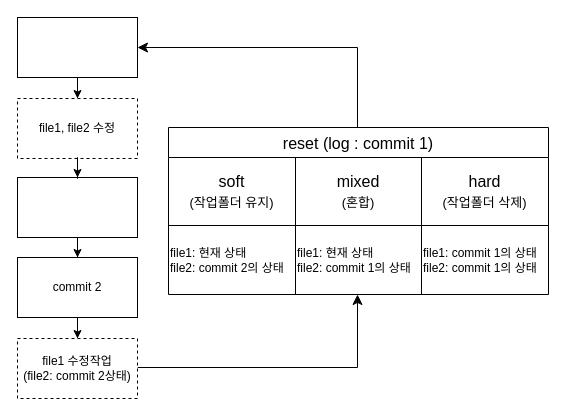
Some shapes in this 566 by 416 pixel diagram are drawn without their labels. The shapes that lost their labels are listed below. From the top down, each one's centre as x and y in pixels, then its label:
At point (77, 47): "commit 1".
At point (77, 207): "add file1 file2".
